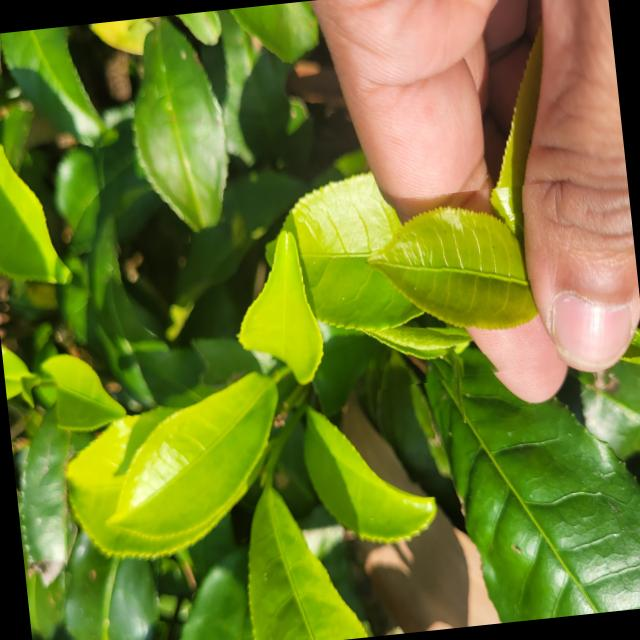Catagory A(1-2 days): (354, 182, 558, 388)
